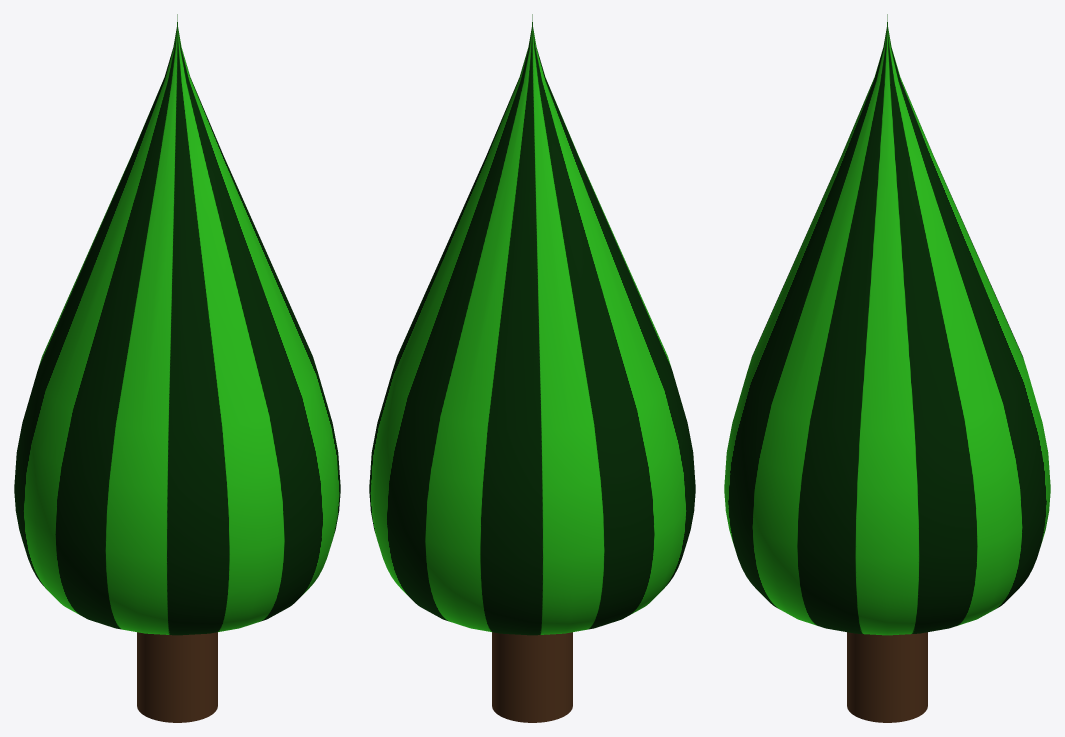
File: Royal Raceway Tree.dae
The picture shows the model from 3 angles, left to right: view 1: azimuth 30°, elevation 25°; view 2: azimuth 150°, elevation 25°; view 3: azimuth 270°, elevation 25°; orthographic projection.
Parts seen in each view (by area): view 1: Tree, Cylinder; view 2: Tree, Cylinder; view 3: Tree, Cylinder.
Boxes of the visible parts, box(x1,y1,x2,y2) form: Tree: box(14, 14, 340, 635); Cylinder: box(137, 632, 217, 722); Tree: box(369, 14, 695, 635); Cylinder: box(492, 632, 572, 722); Tree: box(724, 14, 1050, 635); Cylinder: box(847, 632, 927, 722).
Size of the model in its own units: 44.36 by 104 by 44.36.
2 materials, 2 textured.
